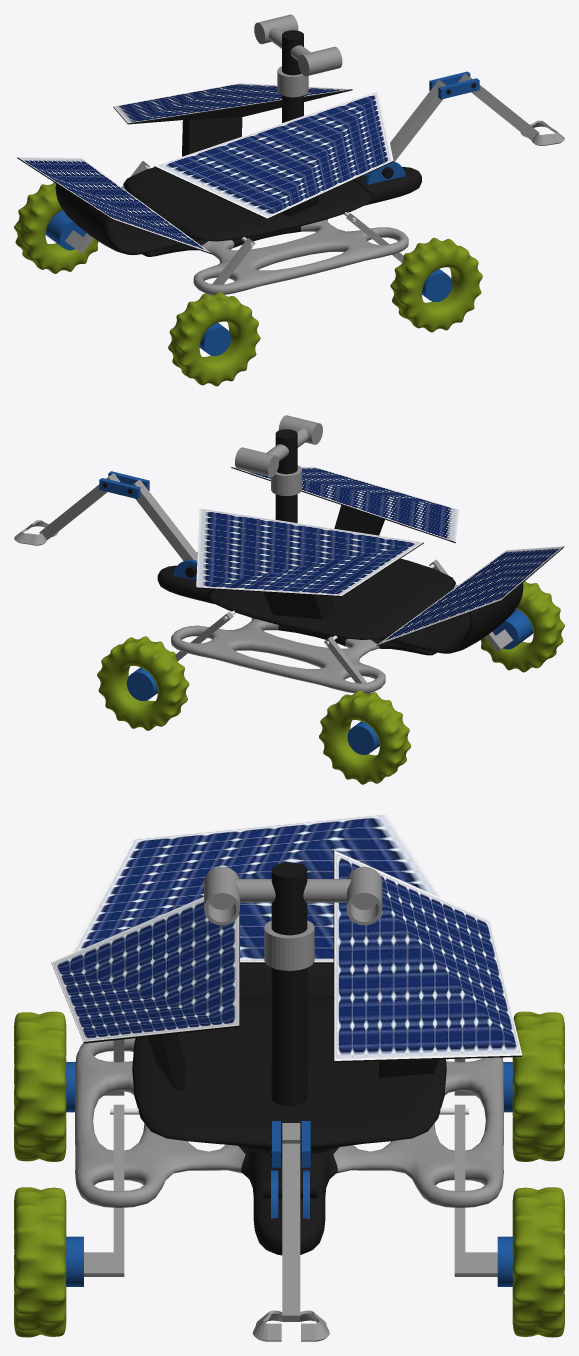
The model's file is roverfinalihopeso.FBX.
3 views of the same model, one above another, from view 1: azimuth 30°, elevation 25°; view 2: azimuth 150°, elevation 25°; view 3: azimuth 270°, elevation 25° (orthographic). The views are drawn at different scales.
Visible parts, largest first — view 1: Plane002, Tube001, Box003, Box001, Plane001, Plane003, Cylinder003, Cylinder006, Box002, Box007, Box004, Cylinder010 (+3 smaller); view 2: Plane001, Tube001, Box003, Box001, Plane002, Plane003, Cylinder003, Cylinder006, Box002, Box007, Box004, Cylinder008 (+3 smaller); view 3: Tube001, Box003, Plane001, Box001, Plane003, Plane002, Cylinder003, Box002, Box007, Cylinder006, Cylinder004, Cylinder007 (+1 smaller).
Boxes of the visible parts, x1,y1,x2,y2 form: Plane002: (154, 91, 393, 219); Tube001: (14, 182, 482, 386); Box003: (55, 167, 373, 255); Box001: (121, 167, 421, 294); Plane001: (113, 83, 352, 156); Plane003: (17, 157, 211, 253); Cylinder003: (277, 30, 308, 122); Cylinder006: (254, 14, 342, 76); Box002: (65, 161, 403, 295); Box007: (458, 73, 564, 145); Box004: (390, 80, 446, 161); Cylinder010: (45, 210, 86, 250); Plane001: (196, 508, 423, 619); Tube001: (97, 581, 564, 784); Box003: (206, 558, 523, 653); Box001: (157, 565, 457, 693); Plane002: (231, 466, 458, 543); Plane003: (376, 546, 563, 646); Cylinder003: (271, 429, 301, 522); Cylinder006: (235, 415, 322, 476); Box002: (176, 559, 512, 693); Box007: (14, 473, 120, 545); Box004: (132, 479, 197, 560); Cylinder008: (492, 609, 533, 649); Tube001: (14, 1011, 564, 1337); Box003: (132, 963, 446, 1154); Plane001: (333, 850, 522, 1077); Box001: (75, 1038, 503, 1255); Plane003: (68, 813, 443, 963); Plane002: (51, 897, 239, 1090); Cylinder003: (264, 862, 314, 1105); Box002: (84, 1039, 497, 1276); Box007: (252, 1143, 329, 1341); Cylinder006: (204, 866, 382, 925); Cylinder004: (235, 879, 350, 902); Cylinder007: (66, 1236, 83, 1286).
Bounding box in the file's own units: 104 × 49.3 × 60.4.
Materials: 5 (1 with a texture image).
